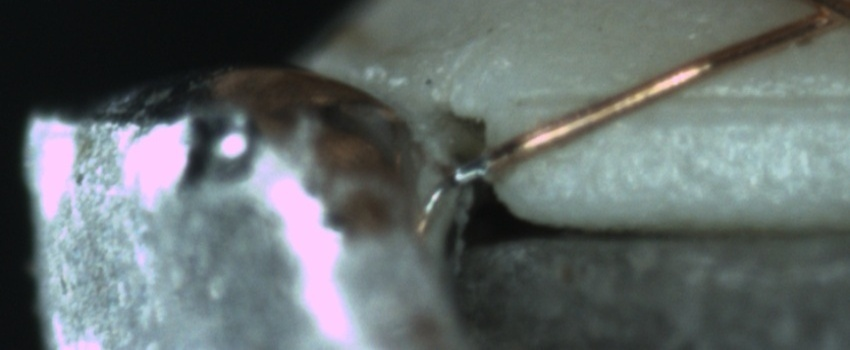DL: (532, 65, 847, 135)
TS: (451, 153, 491, 185)
